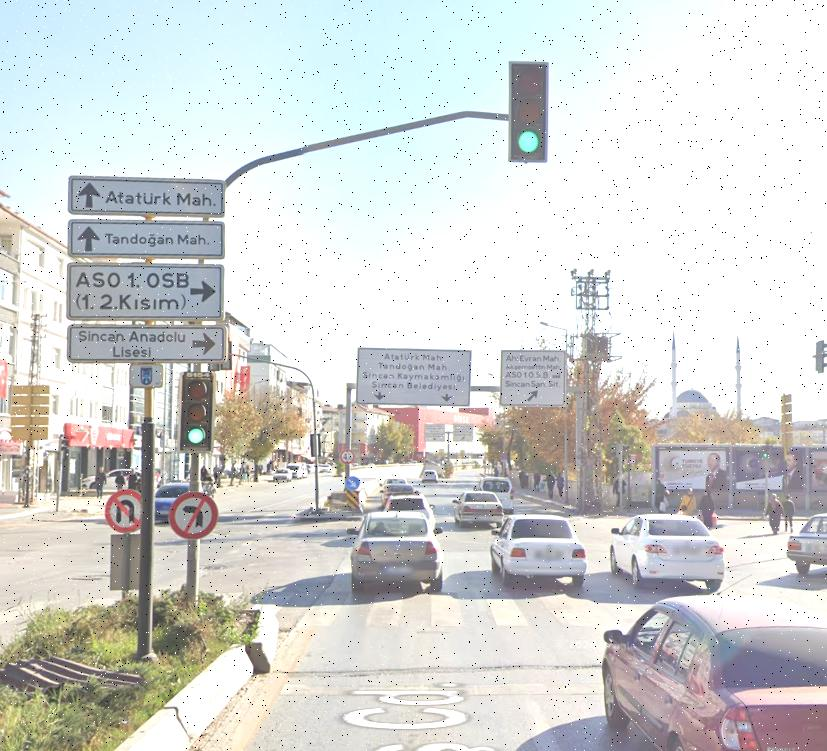greenlight: (511, 61, 545, 155), (183, 374, 215, 446)
leftturnsareforbidden: (171, 493, 216, 537)
